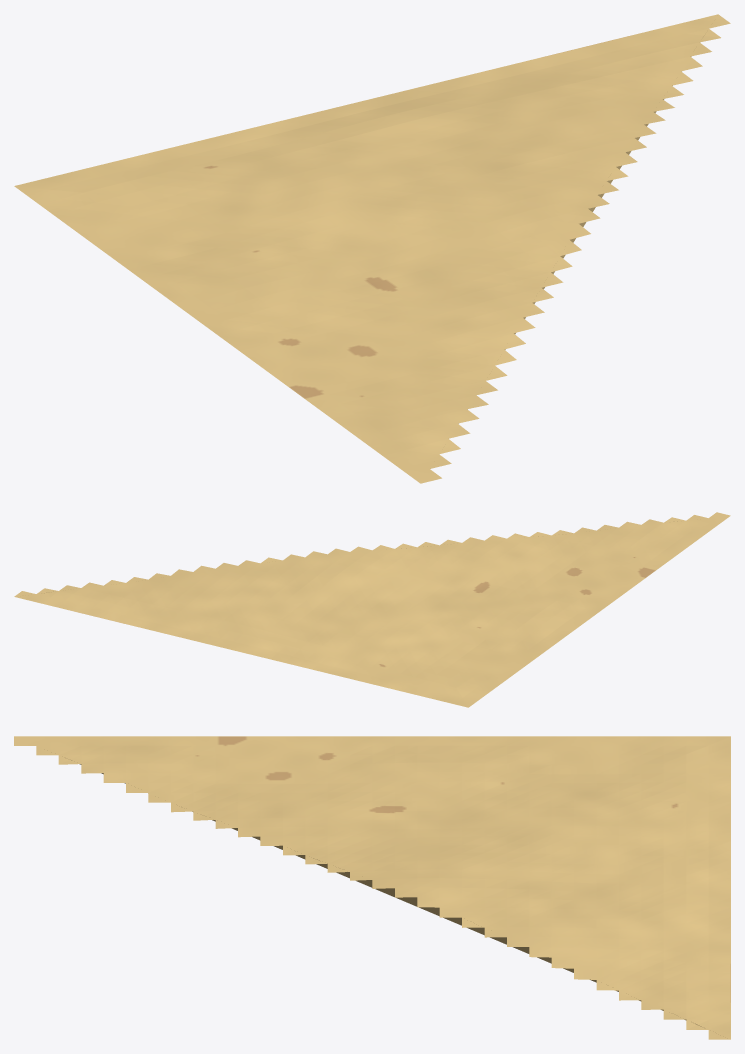
Rendered from Desert_Flat_01_SW.obj.
3 views of the same model, one above another, from view 1: azimuth 30°, elevation 25°; view 2: azimuth 150°, elevation 25°; view 3: azimuth 270°, elevation 25° (orthographic). The views are drawn at different scales.
Size of the model in its own units: 10 by 0.153 by 10.
1 material, 1 textured.
